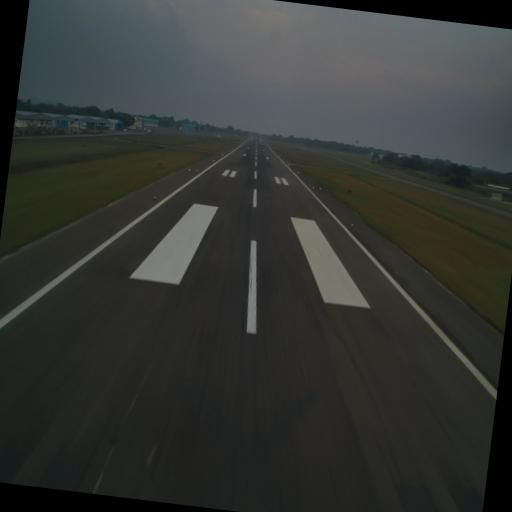on: (350, 222, 354, 228), (154, 196, 158, 201), (195, 168, 198, 174), (319, 186, 322, 192), (188, 168, 192, 172), (312, 186, 314, 189)
